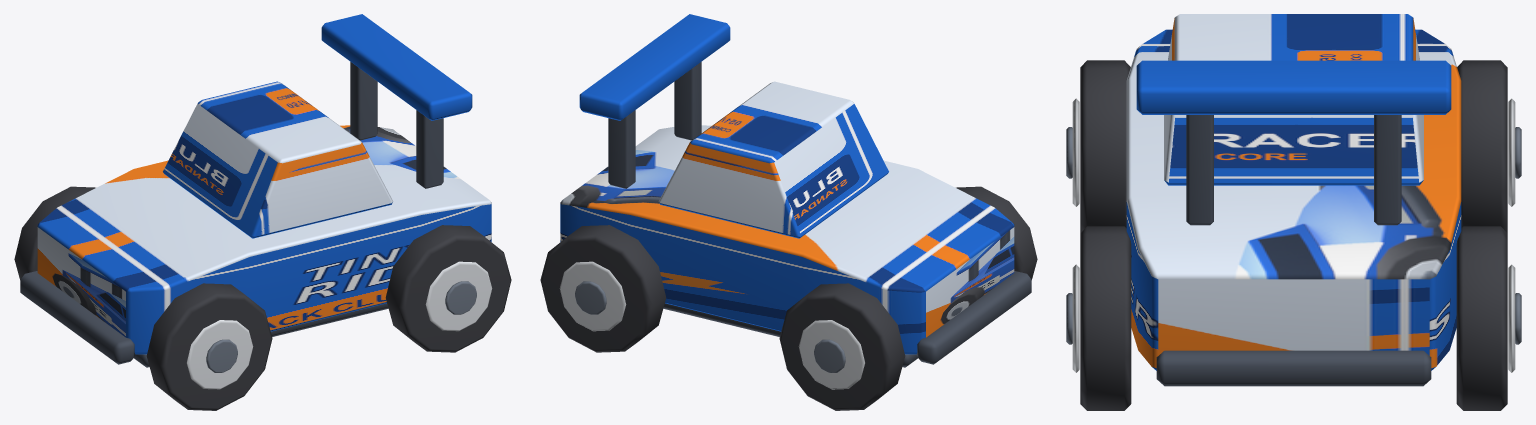
3 views of the same model, side by side, from view 1: azimuth 30°, elevation 25°; view 2: azimuth 150°, elevation 25°; view 3: azimuth 270°, elevation 25° (orthographic). The views are drawn at different scales.
Visible parts, largest first — view 1: TC-01_connected_shell, TC-01_cabin, Tire, Tire.002, rear airfoil, front bumper, Rim.002, Rim, wing support, wing support.001, Tire.001, underbody (+2 smaller); view 2: TC-01_connected_shell, TC-01_cabin, Tire.001, Tire.003, rear airfoil, front bumper, Rim.003, Rim.001, wing support.001, wing support, Tire, underbody (+2 smaller); view 3: TC-01_connected_shell, TC-01_cabin, rear airfoil, rear bumper, Tire.002, Tire.003, Tire, Tire.001, wing support, wing support.001, Rim, Rim.001 (+2 smaller).
Part boxes in pixels (x1=…): TC-01_connected_shell: x1=37, y1=125, x2=491, y2=354; TC-01_cabin: x1=163, y1=81, x2=393, y2=238; Tire: x1=146, y1=283, x2=272, y2=410; Tire.002: x1=385, y1=225, x2=511, y2=352; rear airfoil: x1=321, y1=14, x2=472, y2=120; front bumper: x1=20, y1=271, x2=135, y2=364; Rim.002: x1=425, y1=261, x2=492, y2=331; Rim: x1=187, y1=320, x2=253, y2=389; wing support: x1=416, y1=110, x2=443, y2=188; wing support.001: x1=350, y1=62, x2=377, y2=140; Tire.001: x1=14, y1=186, x2=95, y2=279; underbody: x1=134, y1=303, x2=388, y2=367; TC-01_connected_shell: x1=560, y1=125, x2=1014, y2=354; TC-01_cabin: x1=658, y1=81, x2=888, y2=238; Tire.001: x1=779, y1=283, x2=905, y2=410; Tire.003: x1=540, y1=225, x2=666, y2=352; rear airfoil: x1=579, y1=14, x2=730, y2=120; front bumper: x1=916, y1=271, x2=1031, y2=364; Rim.003: x1=559, y1=261, x2=626, y2=331; Rim.001: x1=798, y1=320, x2=864, y2=389; wing support.001: x1=608, y1=110, x2=635, y2=188; wing support: x1=674, y1=62, x2=701, y2=140; Tire: x1=956, y1=186, x2=1037, y2=279; underbody: x1=663, y1=303, x2=917, y2=367; TC-01_connected_shell: x1=1126, y1=29, x2=1461, y2=370; TC-01_cabin: x1=1164, y1=14, x2=1423, y2=185; rear airfoil: x1=1136, y1=60, x2=1451, y2=114; rear bumper: x1=1156, y1=350, x2=1431, y2=386; Tire.002: x1=1080, y1=226, x2=1131, y2=410; Tire.003: x1=1456, y1=226, x2=1507, y2=410; Tire: x1=1080, y1=60, x2=1130, y2=232; Tire.001: x1=1457, y1=60, x2=1507, y2=232; wing support: x1=1186, y1=115, x2=1213, y2=225; wing support.001: x1=1374, y1=115, x2=1401, y2=225; Rim: x1=1072, y1=98, x2=1079, y2=206; Rim.001: x1=1508, y1=98, x2=1515, y2=206.
Size of the model in its own units: 325 by 190 by 231.
